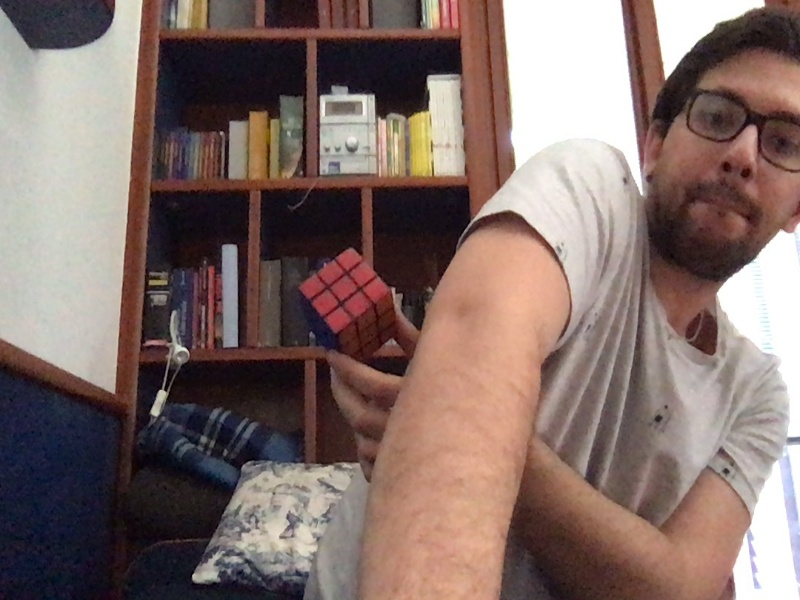rubik: (298, 249, 397, 361)
